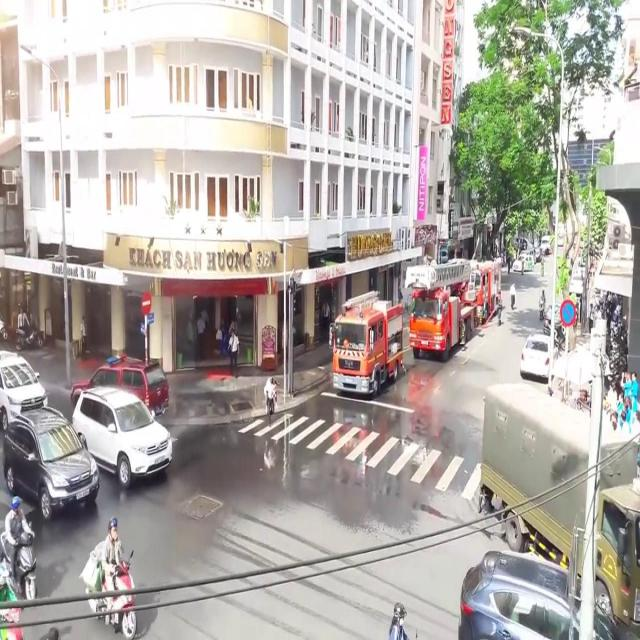car: (456, 549, 580, 640), (3, 405, 99, 520), (72, 386, 172, 488), (72, 352, 168, 408), (0, 350, 46, 411), (520, 332, 548, 374)
motorcycle: (80, 518, 136, 640), (0, 495, 37, 598)
truck: (482, 384, 640, 629), (328, 290, 402, 396), (404, 258, 476, 361)
